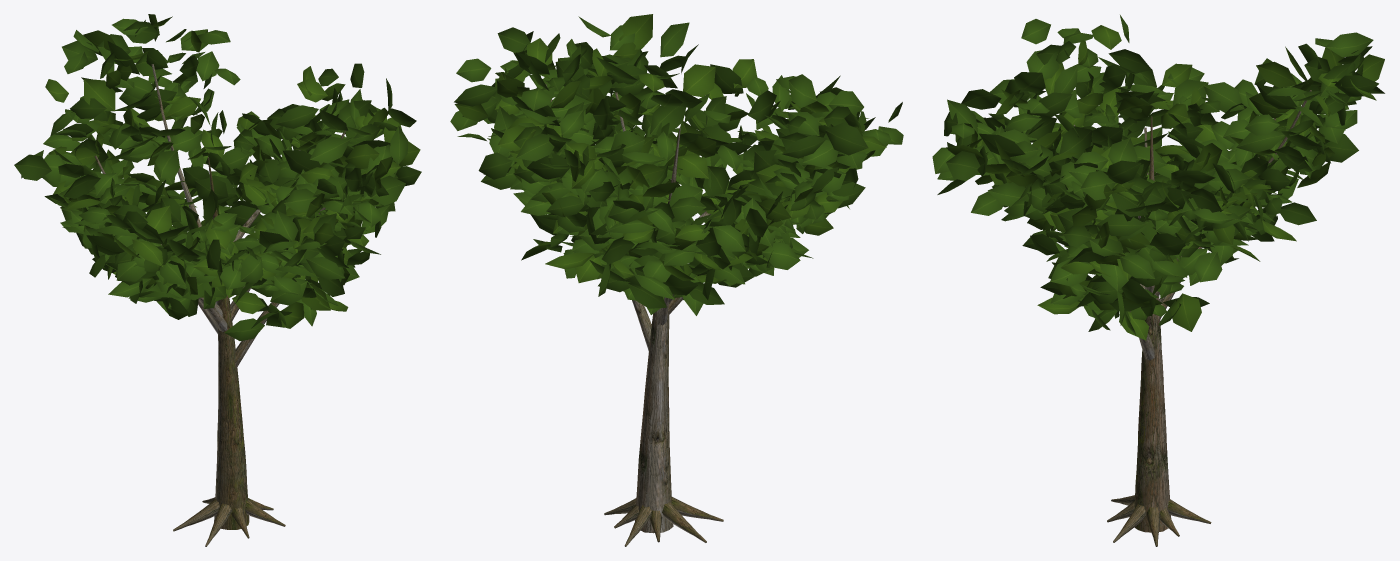
Rendered from oak_sapling_lod2.gltf.
3 renders of one model, left to right at view 1: azimuth 30°, elevation 25°; view 2: azimuth 150°, elevation 25°; view 3: azimuth 270°, elevation 25°, orthographic. The views are drawn at different scales.
Parts seen in each view (by area): view 1: oak_sapling_lod2; view 2: oak_sapling_lod2; view 3: oak_sapling_lod2.
Part boxes in pixels (<box>): oak_sapling_lod2: <box>14,14,421,546</box>; oak_sapling_lod2: <box>450,14,903,546</box>; oak_sapling_lod2: <box>932,15,1384,546</box>.
Size of the model in its own units: 3.18 by 3.82 by 3.31.
Materials: 3 (3 with a texture image).
